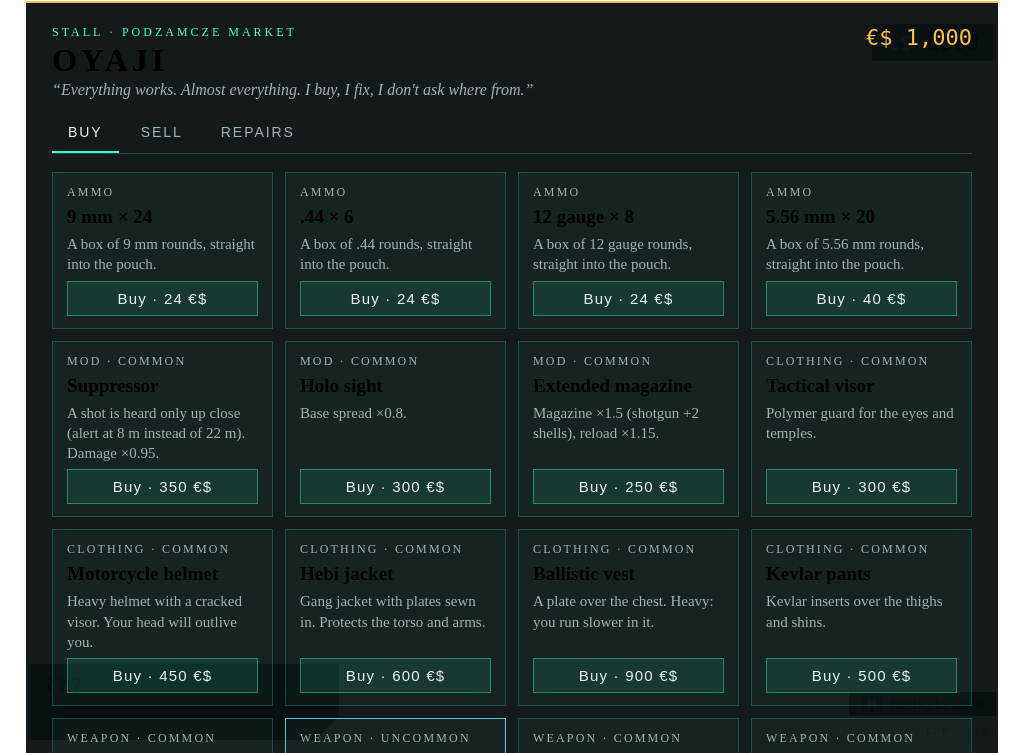
Oyaji's stall › says so when there is nothing to sell or mend, and when the bag is as big as it gets
Click the tab with test id "shop-tab-sell". click: [162, 133]
box: [125,113,199,153]
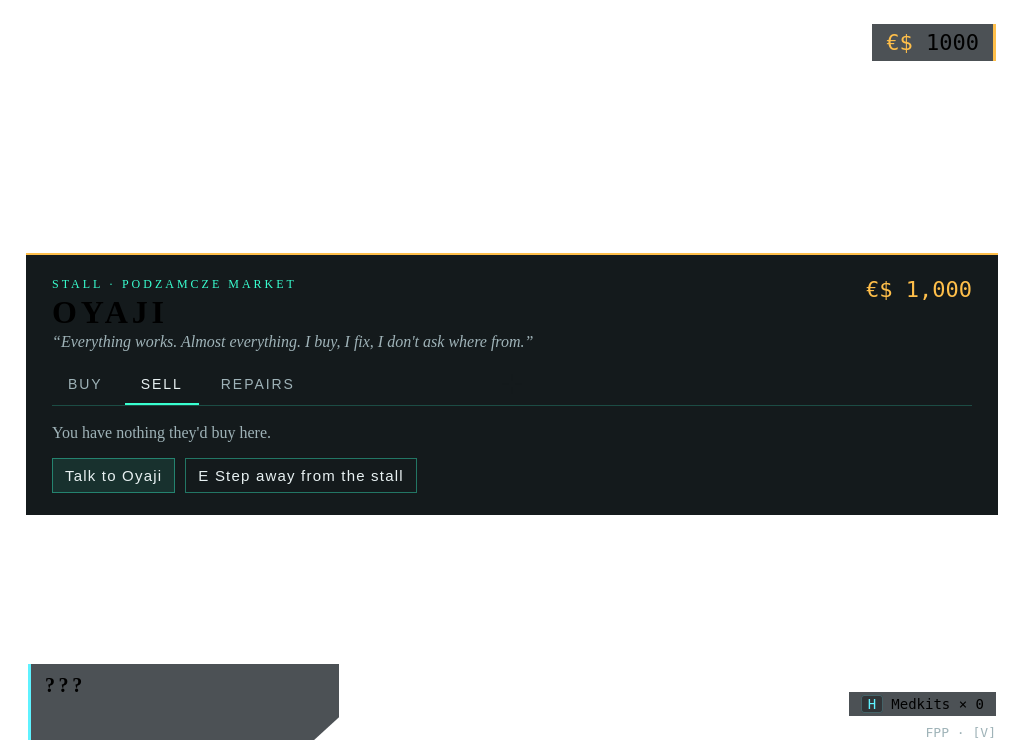
Now the text "You have nothing they'd buy here." is shown, box [52,424,271,441]
Click the tab with test id "shop-tab-repair". click: [258, 385]
box: [205,365,311,405]
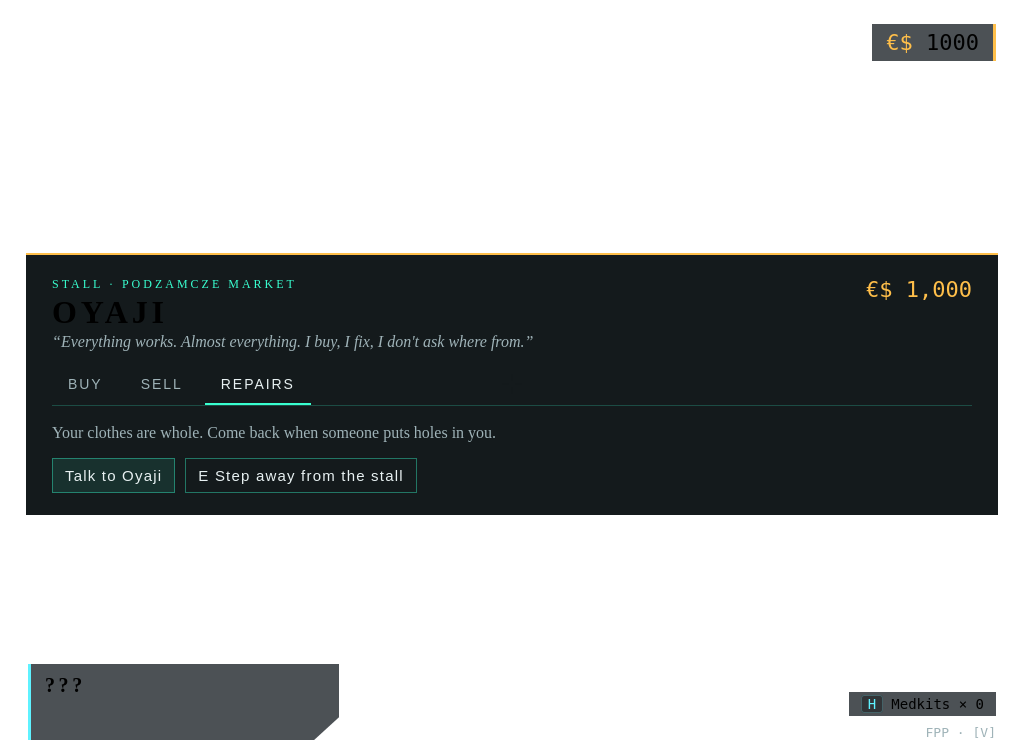
Now the text "Your clothes are whole" is shown, box [52,424,496,441]
